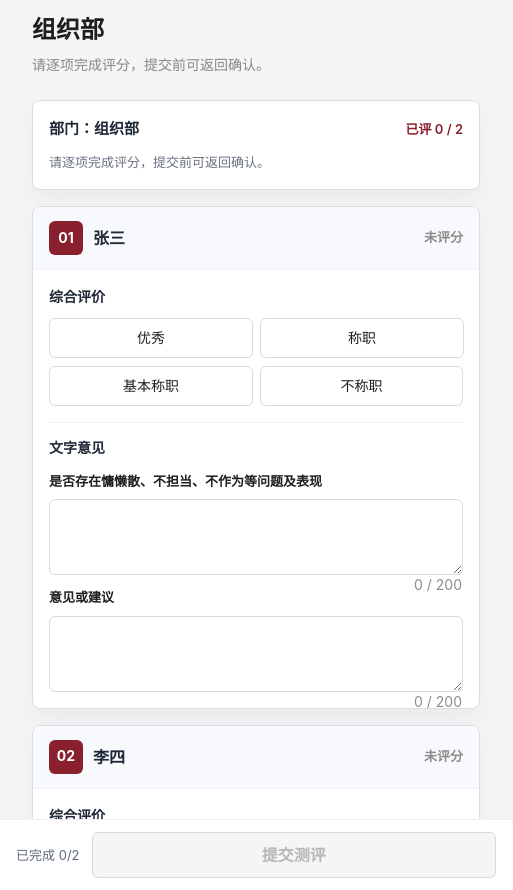
mobile evaluation flow › renders the formal mobile evaluation form structure with progress and item status
Expected: the element with test id "mobile-evaluation-summary" shows "部门：组织部", [32,100,480,190]
Expected: the element with test id "mobile-evaluation-summary" shows "已评 0 / 2", [32,100,480,190]
Click the button "优秀" at (151, 337), box [137,329,165,346]
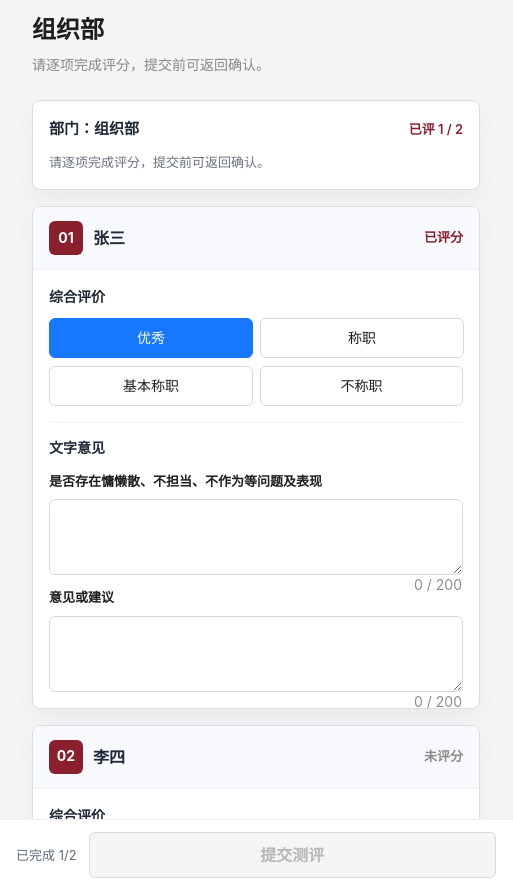
Expected: the element with test id "mobile-evaluation-summary" shows "已评 1 / 2", [32,100,480,190]
Expected: the element with test id "mobile-evaluatee-card-1" shows "已评分", [424,229,463,245]
Expected: the text with test id "mobile-evaluation-footer-progress" reads "已完成 1/2", [16,846,77,864]
